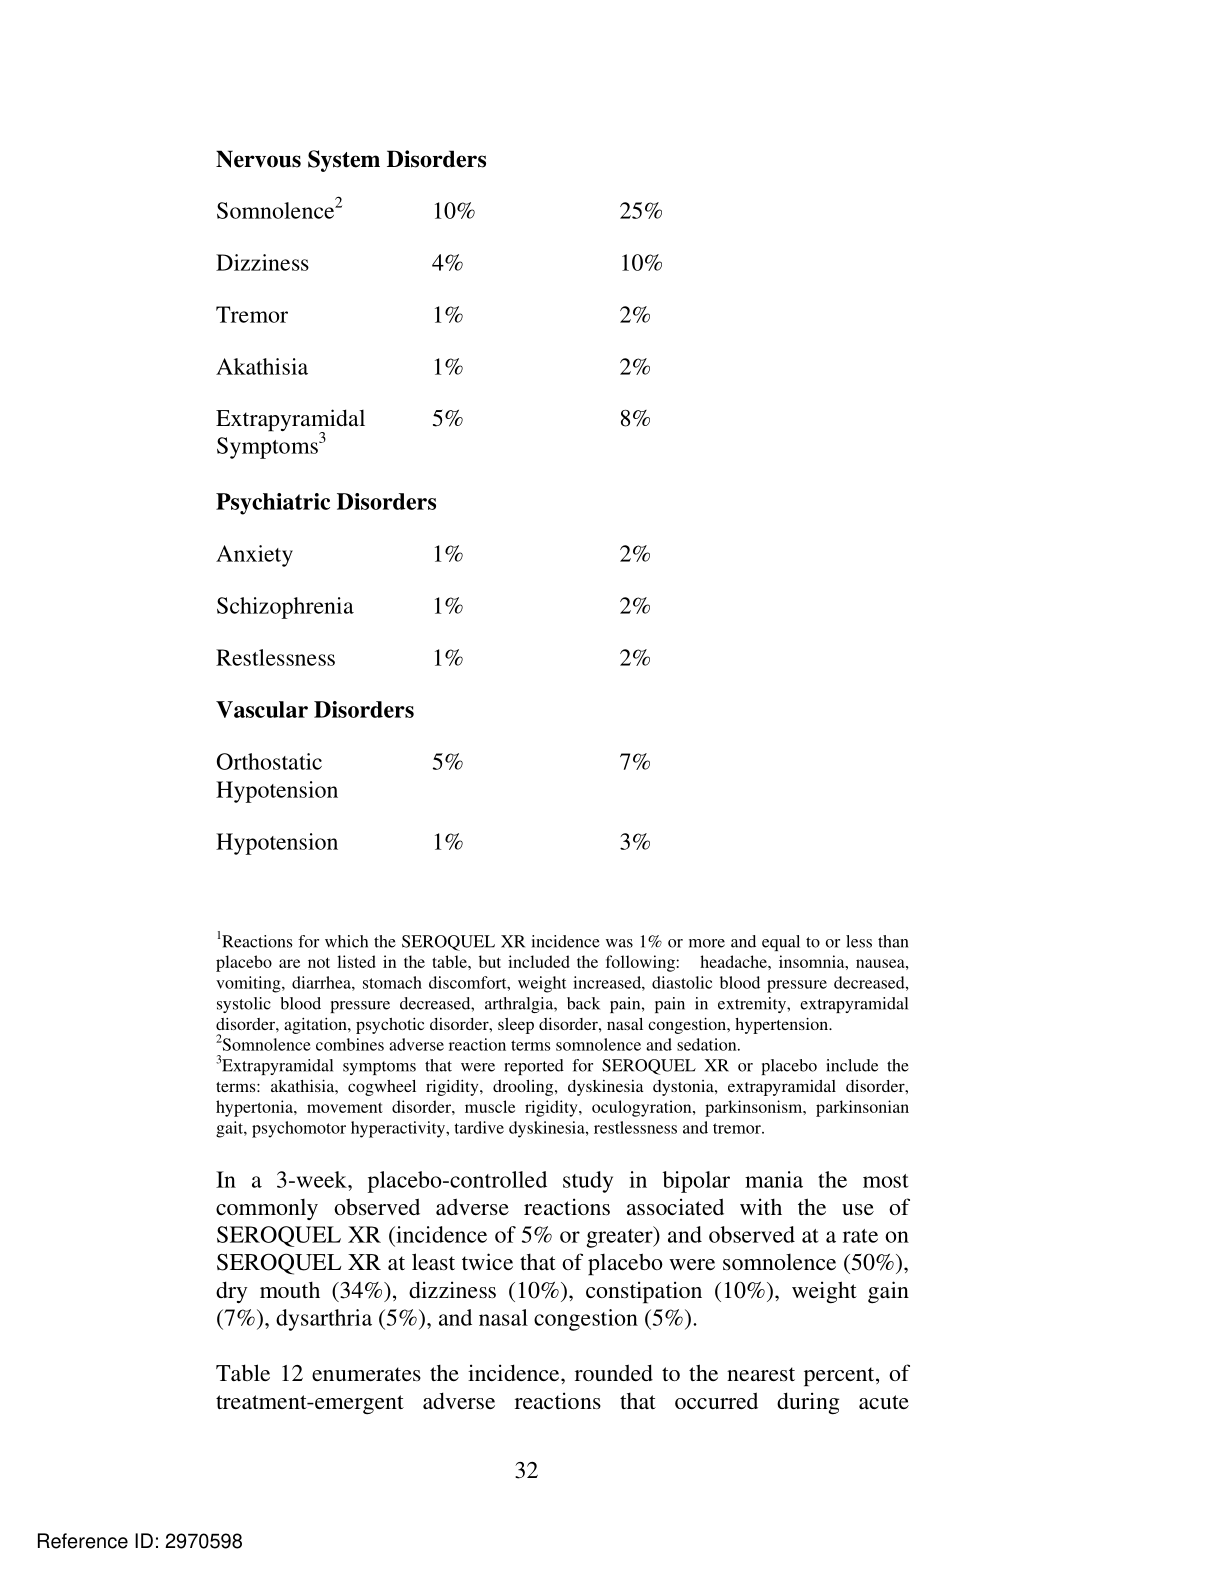nolines: (211, 144, 662, 855)
